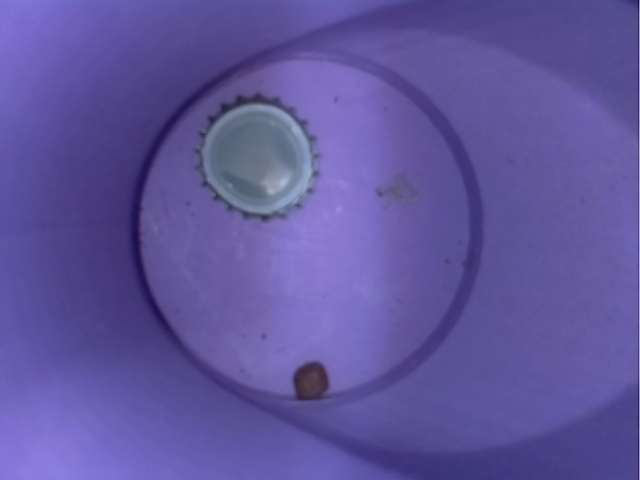capsule: (185, 78, 333, 230)
croquette: (283, 345, 340, 409)
